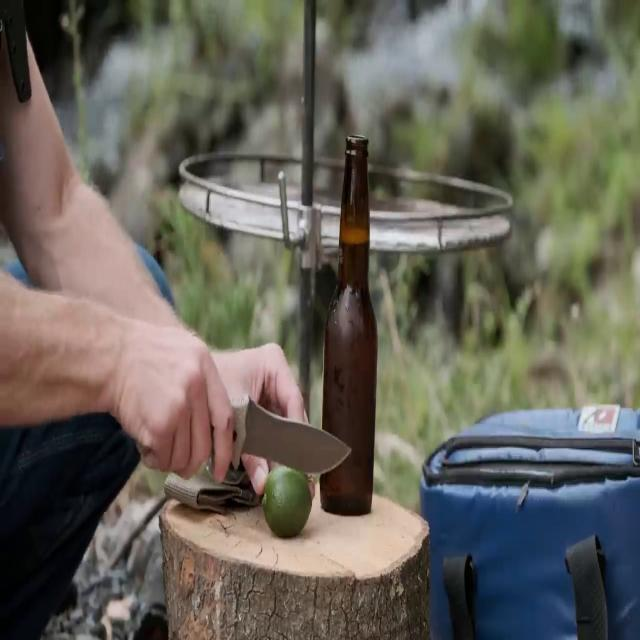Knife: (174, 389, 370, 482)
